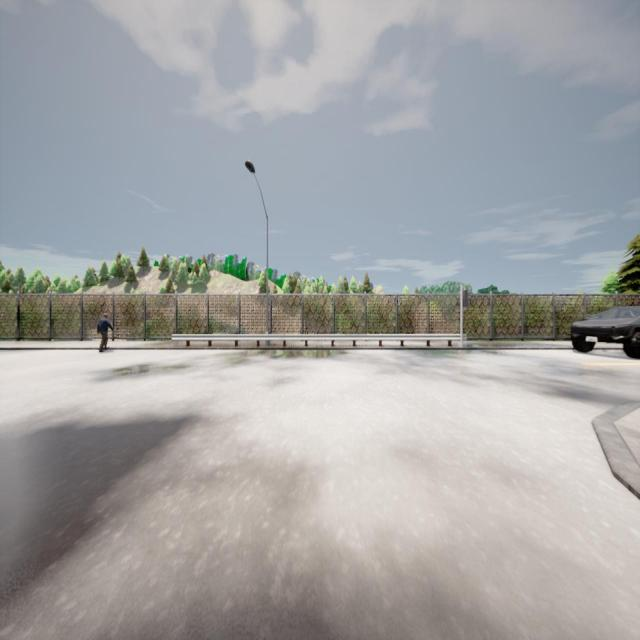Pedestrian: (97, 313, 113, 351)
Vehicle: (571, 306, 639, 358)
traffic_light: (462, 290, 468, 308)
